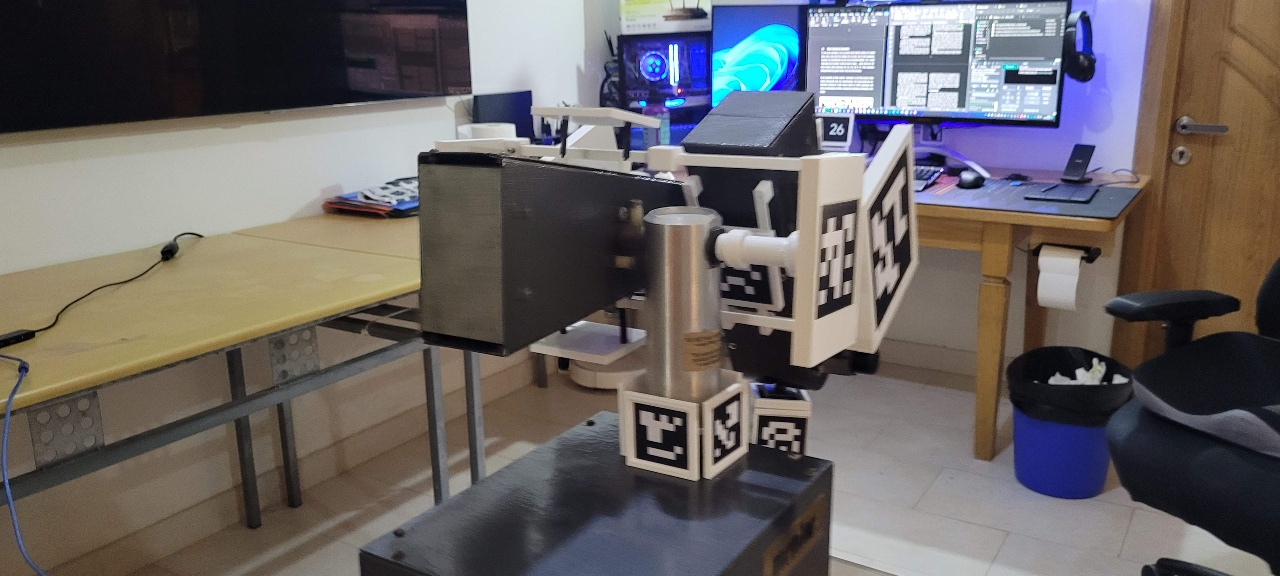Robot: (418, 90, 922, 481)
